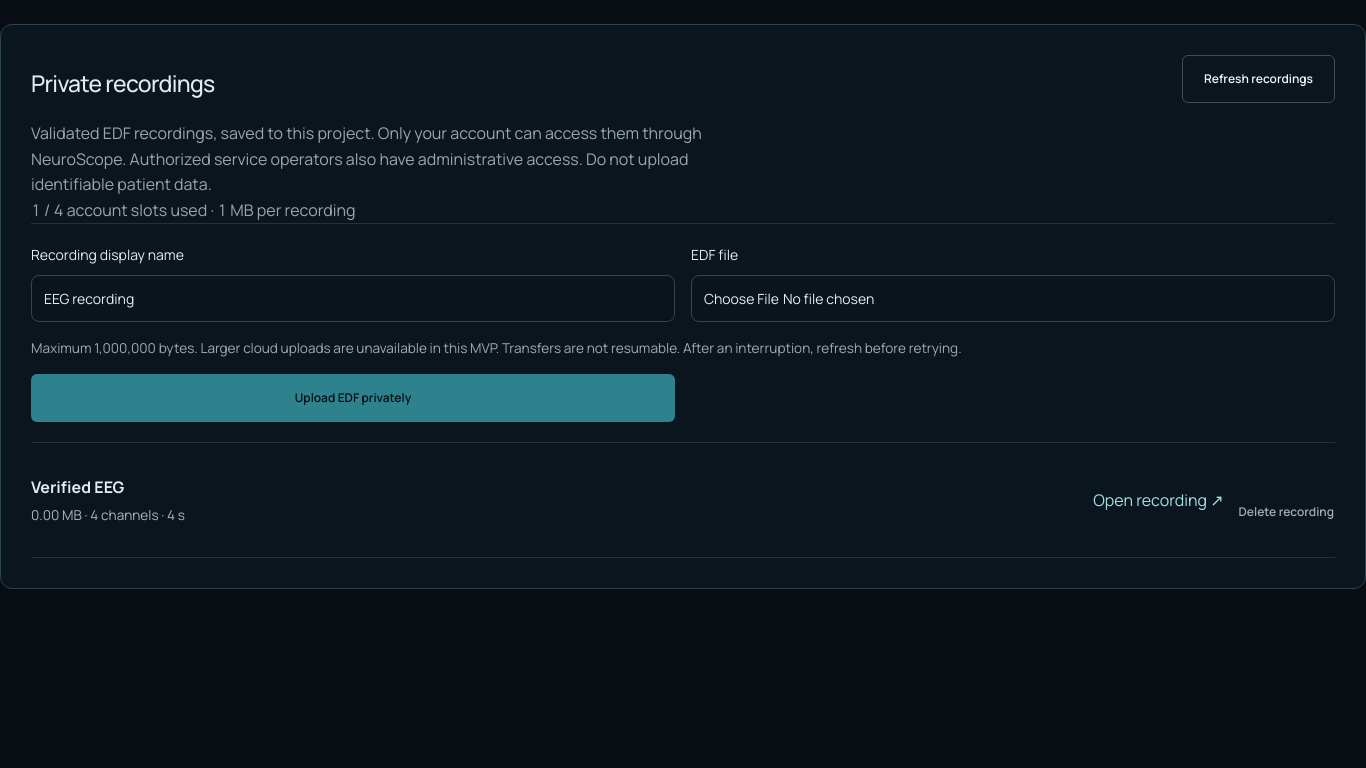
Test: requires confirmation and refreshes after successful deletion
Expected: the text "Verified EEG" is shown, [31,476,124,498]
Click the button "Delete recording".
click(1286, 512)  # box [1238,488,1335,536]
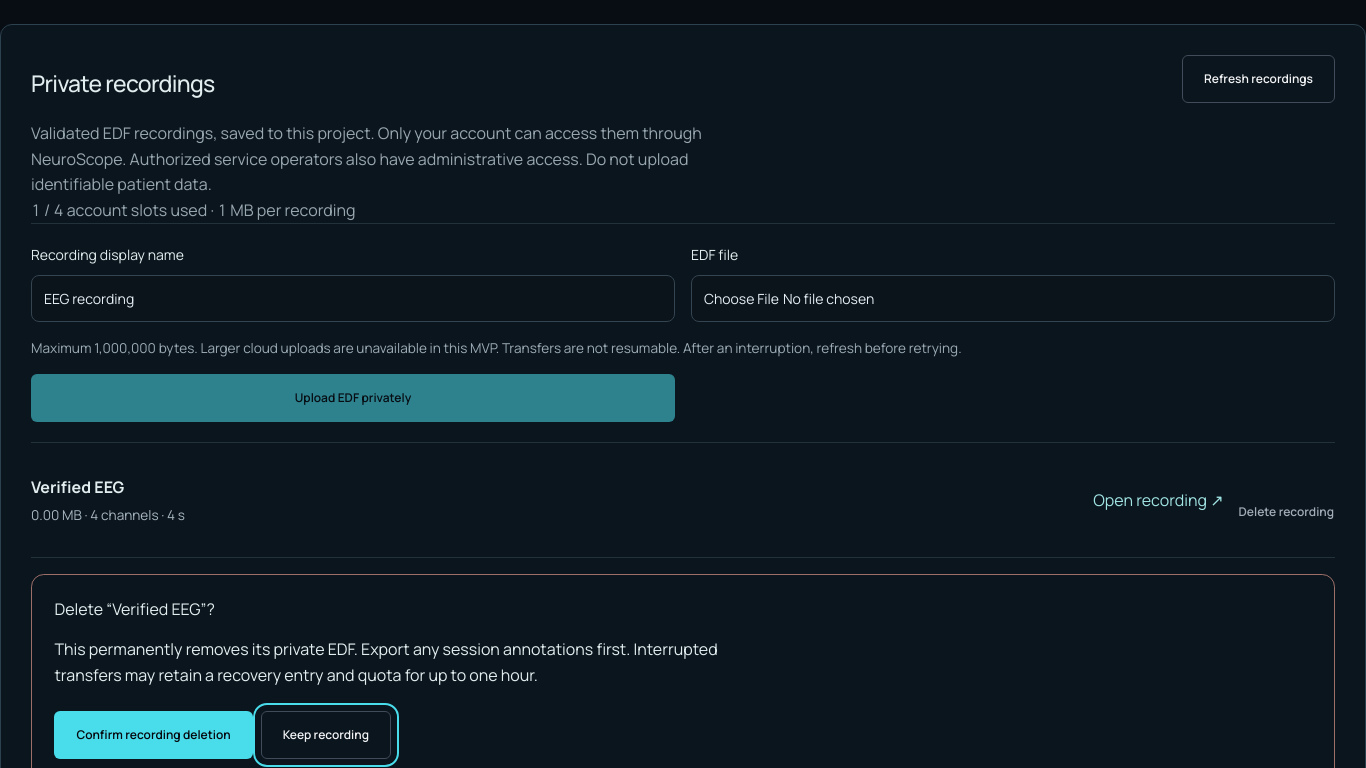
Click the button "Confirm recording deletion".
click(154, 735)  # box [54,711,253,759]
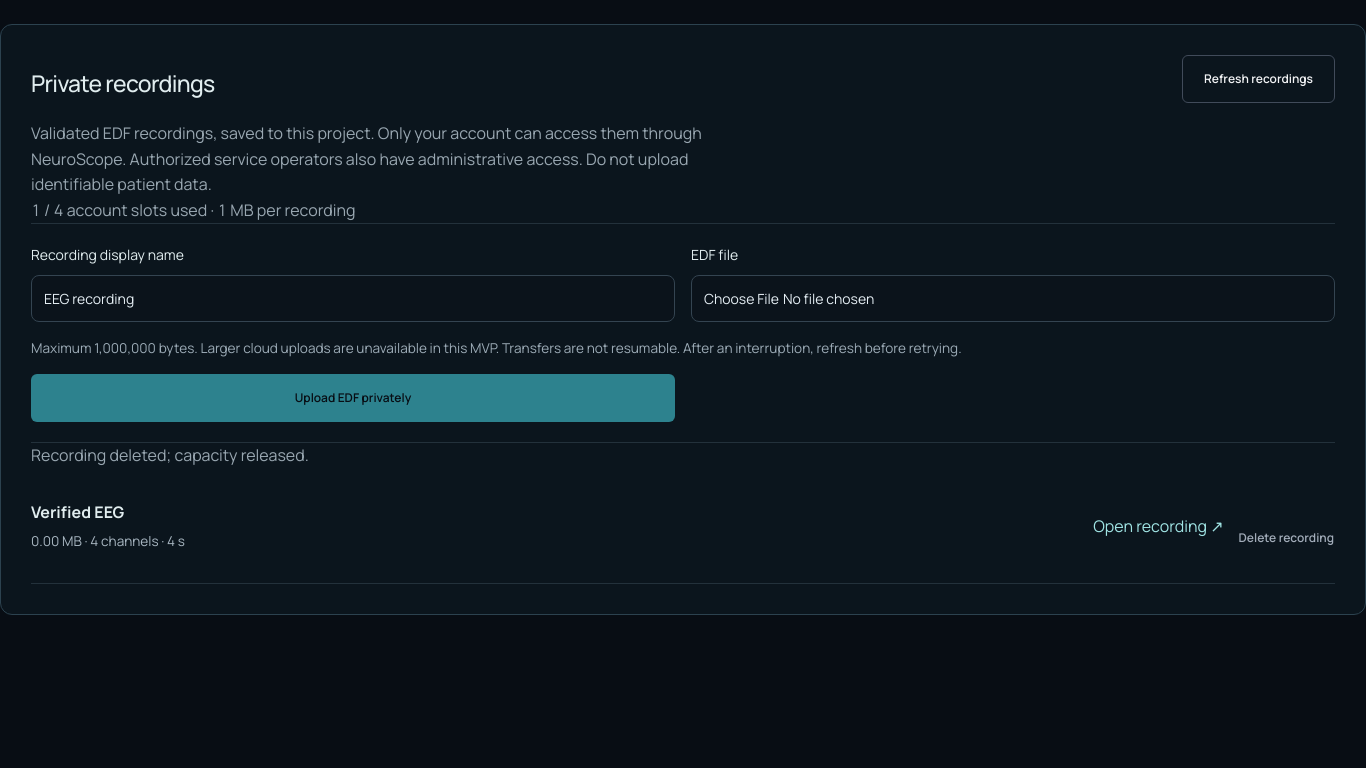
Expected: the text "Recording deleted; capacity released." is shown, [31,444,309,466]
